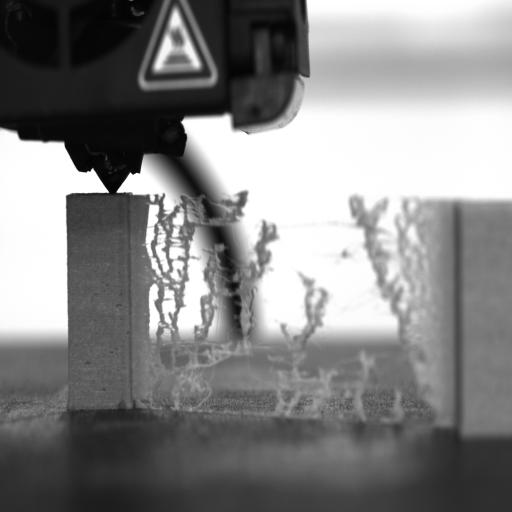spaghetti_and_stringing: (346, 193, 441, 422), (267, 263, 334, 416), (145, 193, 198, 361)
